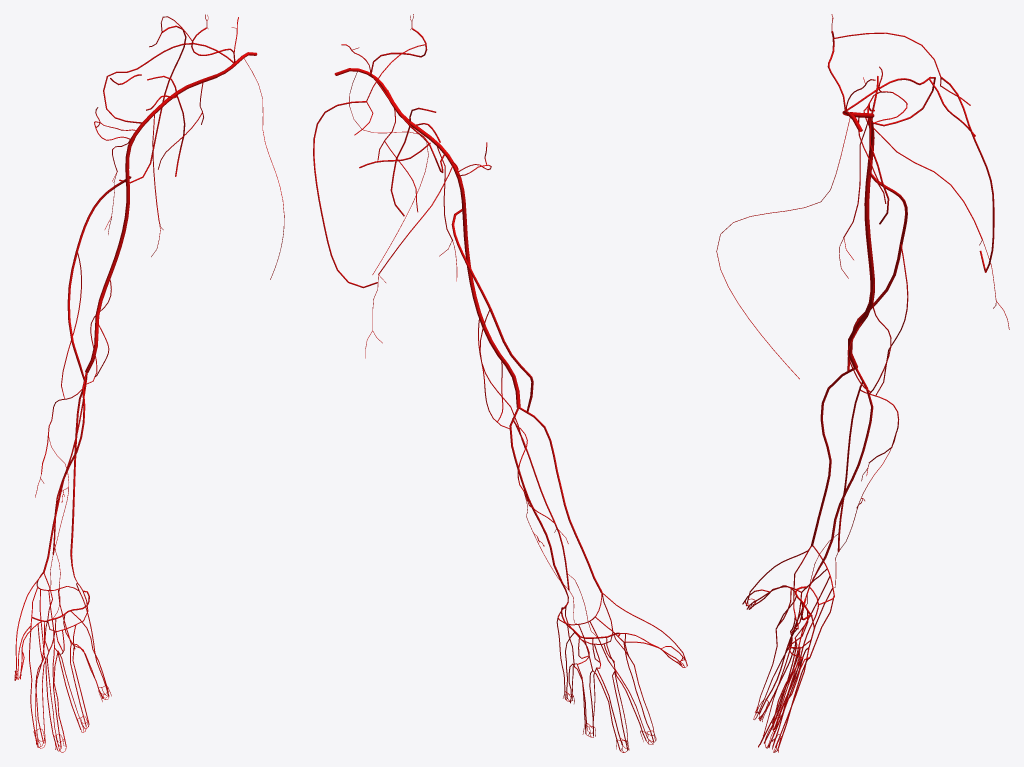
The model's file is Upper limb Arteries(2).fbx.
The picture shows the model from 3 angles, left to right: view 1: azimuth 30°, elevation 25°; view 2: azimuth 150°, elevation 25°; view 3: azimuth 270°, elevation 25°; orthographic projection. The views are drawn at different scales.
Parts seen in each view (by area): view 1: Brachial, Axillary, Radial_br1, Ulnar; view 2: Brachial; view 3: Brachial, Ulnar, Radial_br1, Dorsal_scapular_transverse_scapular_deep_branch_br4.
Part boxes in pixels (x1,y1,x2,y2): Brachial: (85, 169, 129, 373); Axillary: (125, 74, 217, 169); Radial_br1: (43, 372, 86, 572); Ulnar: (70, 373, 87, 583); Brachial: (461, 202, 520, 407); Brachial: (847, 163, 874, 369); Ulnar: (809, 368, 873, 587); Radial_br1: (811, 368, 854, 546); Dorsal_scapular_transverse_scapular_deep_branch_br4: (940, 76, 994, 272).
Bounding box in the file's own units: 37.38 × 83.86 × 26.58.
